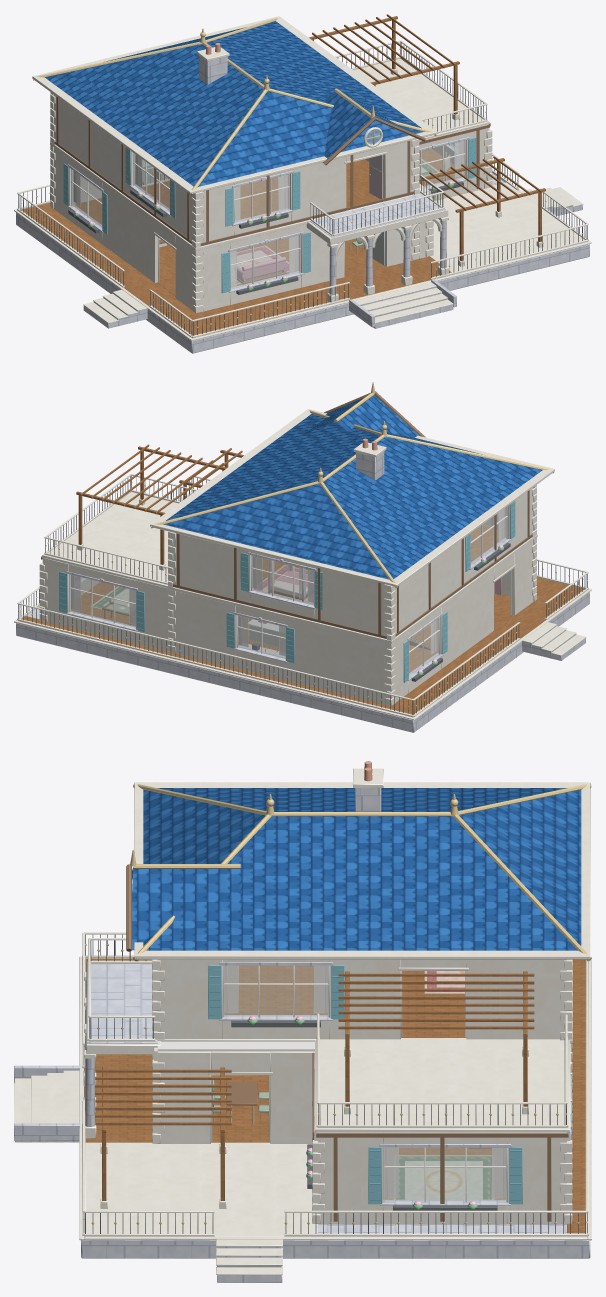
File: coastal_villa.glb
3 renders of one model, top to bottom at view 1: azimuth 30°, elevation 25°; view 2: azimuth 150°, elevation 25°; view 3: azimuth 270°, elevation 25°, orthographic. The views are drawn at different scales.
Visible parts, largest first — view 1: Villa_Coping, Villa_TerracottaRoof, Villa_Plaster, Villa_Limestone, Villa_Cedar, Villa_Glass, Villa_WroughtIron, Villa_Parquet, Villa_Walnut, Villa_Brass, Villa_Shutters, Villa_CreamMolding (+5 smaller); view 2: Villa_TerracottaRoof, Villa_Plaster, Villa_Coping, Villa_Limestone, Villa_Cedar, Villa_Glass, Villa_WroughtIron, Villa_Walnut, Villa_Shutters, Villa_Parquet, Villa_Brass, Villa_SheerCurtains (+3 smaller); view 3: Villa_Coping, Villa_TerracottaRoof, Villa_Plaster, Villa_Limestone, Villa_Cedar, Villa_Glass, Villa_Parquet, Villa_Brass, Villa_WroughtIron, Villa_Walnut, Villa_RugStudy, Villa_Shutters (+3 smaller).
Boxes of the visible parts, left/top/right/bottom form: Villa_Coping: left=14, top=16, right=591, bottom=340; Villa_TerracottaRoof: left=45, top=21, right=422, bottom=186; Villa_Plaster: left=53, top=95, right=489, bottom=312; Villa_Limestone: left=16, top=55, right=589, bottom=353; Villa_Cedar: left=21, top=14, right=545, bottom=338; Villa_Glass: left=72, top=130, right=464, bottom=288; Villa_WroughtIron: left=18, top=42, right=587, bottom=335; Villa_Parquet: left=75, top=148, right=464, bottom=295; Villa_Walnut: left=54, top=97, right=490, bottom=284; Villa_Brass: left=20, top=17, right=585, bottom=328; Villa_Shutters: left=63, top=137, right=476, bottom=293; Villa_CreamMolding: left=71, top=140, right=466, bottom=289; Villa_TerracottaRoof: left=164, top=395, right=542, bottom=579; Villa_Plaster: left=42, top=487, right=533, bottom=705; Villa_Coping: left=14, top=409, right=591, bottom=720; Villa_Limestone: left=16, top=451, right=589, bottom=732; Villa_Cedar: left=20, top=444, right=584, bottom=717; Villa_Glass: left=70, top=507, right=506, bottom=675; Villa_WroughtIron: left=18, top=475, right=587, bottom=715; Villa_Walnut: left=41, top=391, right=532, bottom=649; Villa_Shutters: left=59, top=501, right=515, bottom=682; Villa_Parquet: left=71, top=524, right=512, bottom=673; Villa_Brass: left=18, top=382, right=587, bottom=707; Villa_SheerCurtains: left=72, top=509, right=503, bottom=655; Villa_Coping: left=14, top=768, right=591, bottom=1274; Villa_TerracottaRoof: left=132, top=788, right=581, bottom=950; Villa_Plaster: left=154, top=959, right=570, bottom=1224; Villa_Limestone: left=14, top=788, right=590, bottom=1282; Villa_Cedar: left=84, top=958, right=585, bottom=1233; Villa_Glass: left=224, top=965, right=505, bottom=1201; Villa_Parquet: left=211, top=965, right=505, bottom=1199; Villa_Brass: left=84, top=784, right=591, bottom=1224; Villa_WroughtIron: left=83, top=934, right=587, bottom=1233; Villa_Walnut: left=126, top=864, right=568, bottom=1221; Villa_RugStudy: left=393, top=1155, right=493, bottom=1199; Villa_Shutters: left=208, top=965, right=571, bottom=1204.
Bounding box in the file's own units: 26.84 × 11.09 × 19.48.
34 materials, 10 textured.
